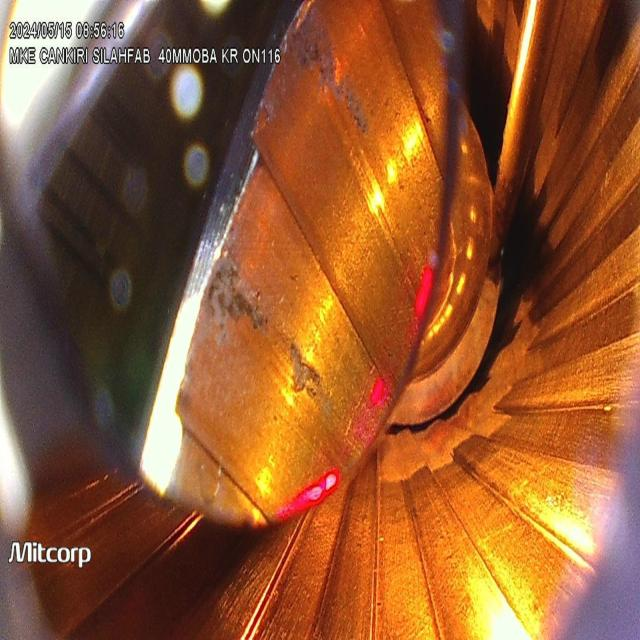hata_8.3: (299, 20, 392, 156), (200, 256, 276, 366), (292, 332, 336, 445)
